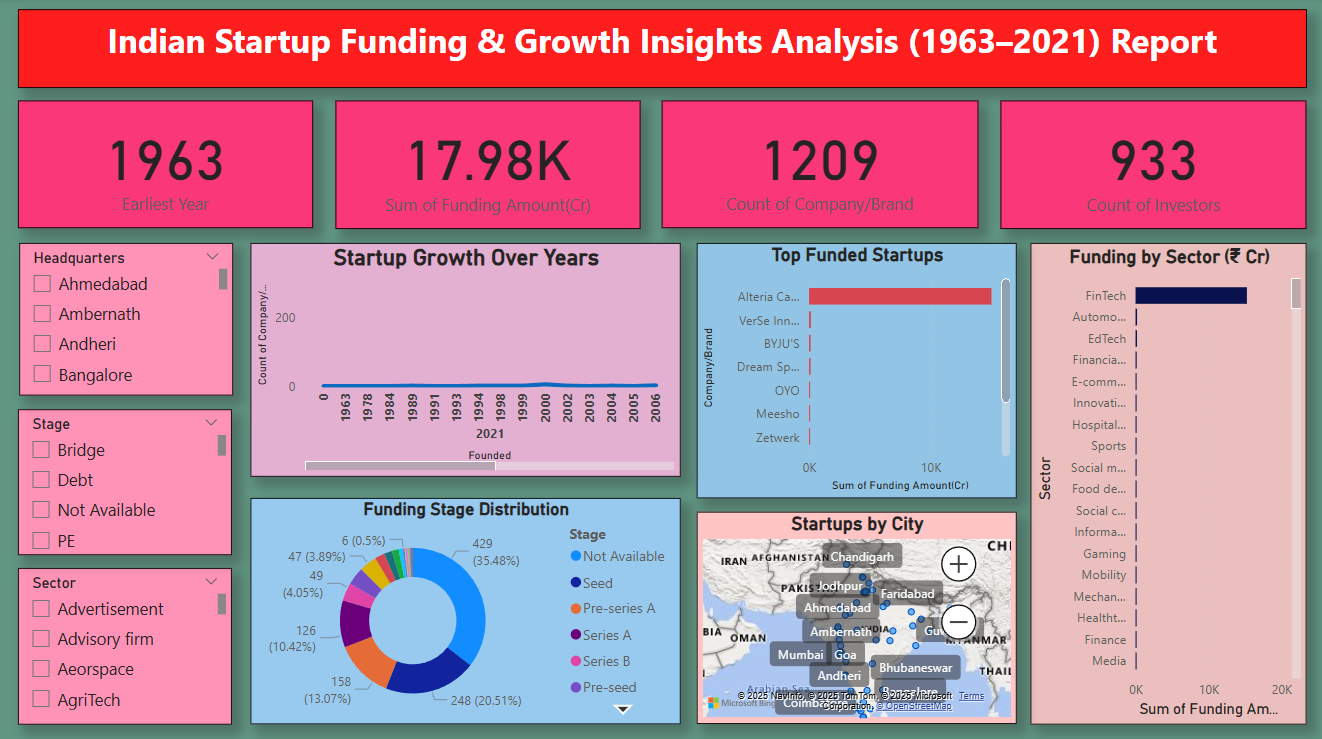

The dashboard page shown, as its layout file describes it:
{"tool":"powerbi","page":{"name":"report dashboard","canvas":[1280,720],"ordinal":3},"visuals":[{"type":"textbox","box":[19.3,10.9,1243.8,76],"z":0},{"type":"card","fields":{"Values":["Sum(Indian Startup.Funding Amount(Cr))"]},"box":[325.7,98.9,294.4,124.3],"z":1000},{"type":"card","fields":{"Values":["CountNonNull(Indian Startup.Company/Brand)"]},"box":[640.6,98.9,305.2,123.1],"z":2000},{"type":"card","fields":{"Values":["Count(Indian Startup.Investors)"]},"box":[967.6,98.9,295.6,124.3],"z":3000},{"type":"card","fields":{"Values":["Indian Startup.Earliest Year"]},"box":[19.3,98.9,284.7,123.1],"z":4000},{"type":"slicer","fields":{"Values":["Indian Startup.Sector"]},"box":[19.3,550.1,206.3,150.8],"z":5000},{"type":"slicer","fields":{"Values":["Indian Startup.Stage"]},"box":[19.3,396.9,206.3,141.2],"z":6000},{"type":"slicer","fields":{"Values":["Indian Startup.Headquarters"]},"box":[20.5,236.5,206.3,147.2],"z":7000},{"type":"clusteredBarChart","title":"Funding by Sector (₹ Cr)","fields":{"Category":["Indian Startup.Sector"],"Y":["Sum(Indian Startup.Funding Amount(Cr))"]},"box":[996.5,236.5,266.6,464.5],"z":8000},{"type":"donutChart","title":"Funding Stage Distribution","fields":{"Category":["Indian Startup.Stage"],"Y":["CountNonNull(Indian Startup.Company/Brand)"]},"box":[243.7,482.6,415,218.4],"z":9000},{"type":"clusteredBarChart","title":"Top Funded Startups","fields":{"Category":["Indian Startup.Company/Brand"],"Y":["Sum(Indian Startup.Funding Amount(Cr))"]},"box":[674.4,236.5,308.8,246.1],"z":10000},{"type":"map","title":"Startups by City","fields":{"Category":["Indian Startup.Headquarters"]},"box":[674.4,495.8,308.8,205.1],"z":11000},{"type":"lineChart","title":"Startup Growth Over Years","fields":{"Category":["Indian Startup.Year","Indian Startup.Founded"],"Y":["CountNonNull(Indian Startup.Company/Brand)"]},"box":[243.7,236.5,415,225.6],"z":12000}]}

Visuals, with their boxes in screenshot pixels (x1, y1, x2, y2), scaled from the page's 1280x720 canvas onto the 1322x739 screenshot:
textbox: bbox=(20, 11, 1305, 89)
card - Sum(Indian Startup.Funding Amount(Cr)): bbox=(336, 102, 640, 229)
card - CountNonNull(Indian Startup.Company/Brand): bbox=(662, 102, 977, 228)
card - Count(Indian Startup.Investors): bbox=(999, 102, 1305, 229)
card - Indian Startup.Earliest Year: bbox=(20, 102, 314, 228)
slicer - Indian Startup.Sector: bbox=(20, 565, 233, 719)
slicer - Indian Startup.Stage: bbox=(20, 407, 233, 552)
slicer - Indian Startup.Headquarters: bbox=(21, 243, 234, 394)
"Funding by Sector (₹ Cr)" clusteredBarChart: bbox=(1029, 243, 1305, 719)
"Funding Stage Distribution" donutChart: bbox=(252, 495, 680, 719)
"Top Funded Startups" clusteredBarChart: bbox=(697, 243, 1015, 495)
"Startups by City" map: bbox=(697, 509, 1015, 719)
"Startup Growth Over Years" lineChart: bbox=(252, 243, 680, 474)
